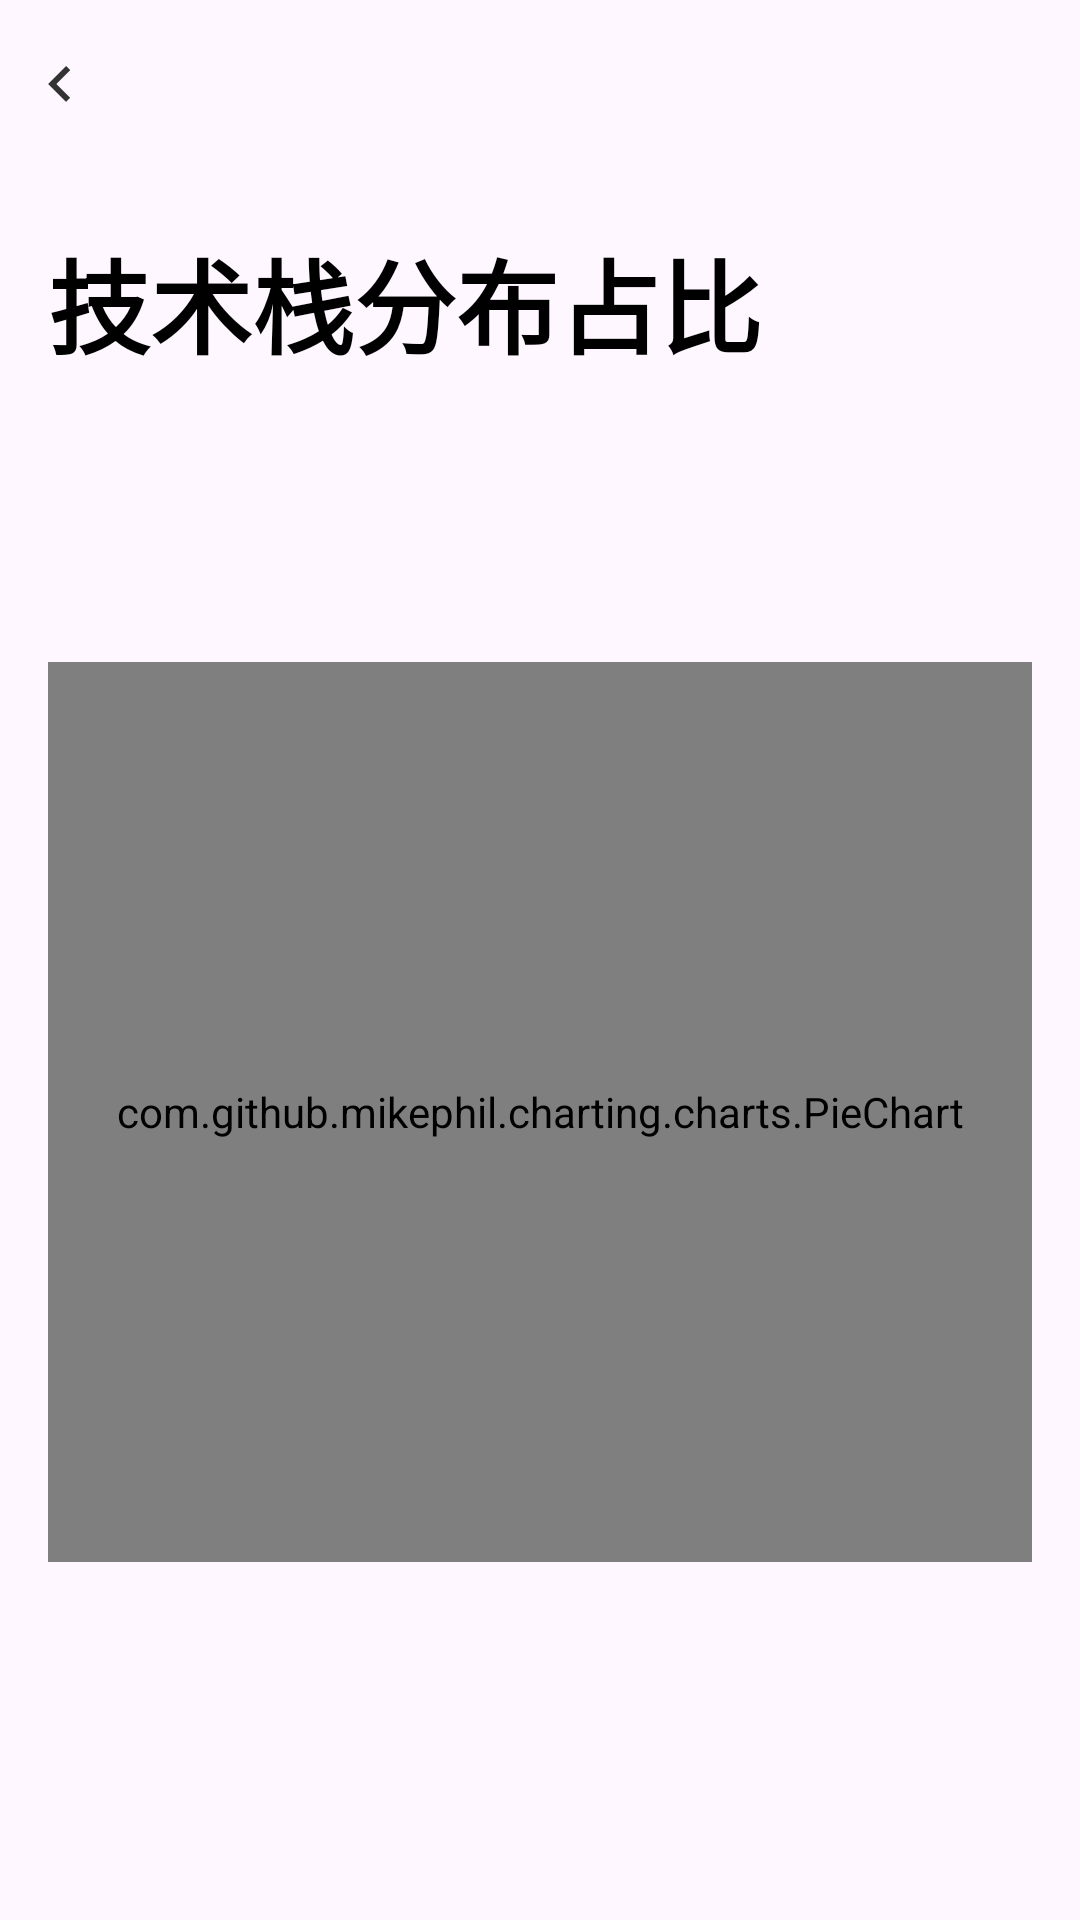

Screen size 1080*1920. Icon name, then its center in pixels as (x=x, y=y):
chevron left: (x=59, y=84)
